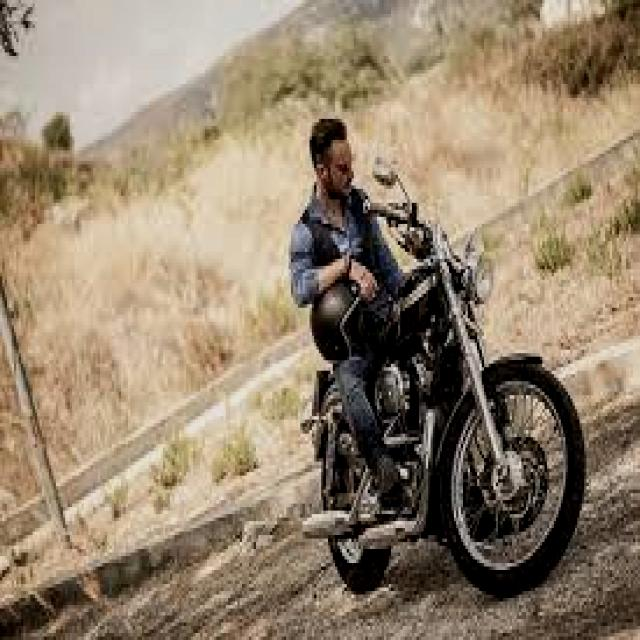MOTORCYCLE: (315, 254, 586, 597)
